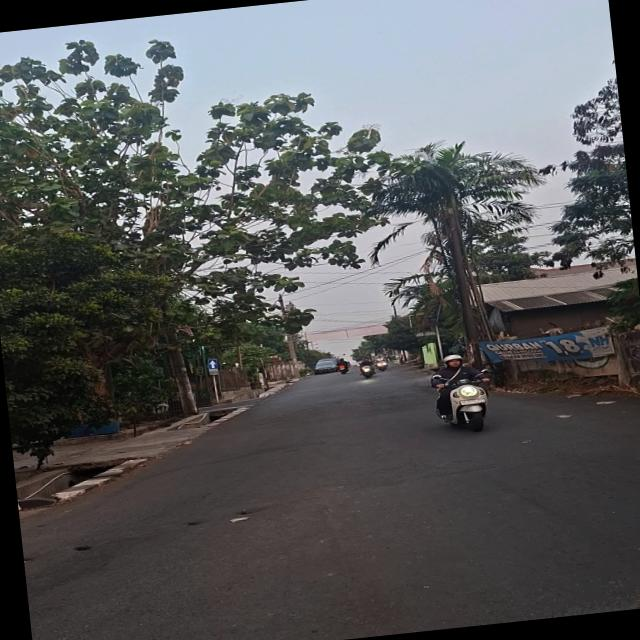WithHelmet: (426, 350, 494, 420), (356, 356, 376, 374), (335, 357, 350, 371), (374, 354, 387, 368)
